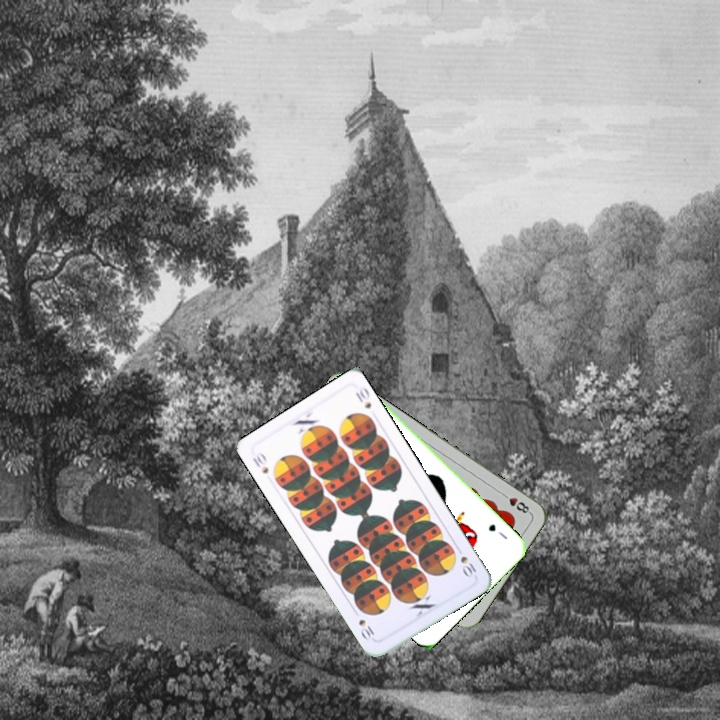GU: (484, 520, 510, 542)
H8: (497, 489, 533, 516)
S10: (452, 542, 479, 580), (248, 448, 271, 477)
